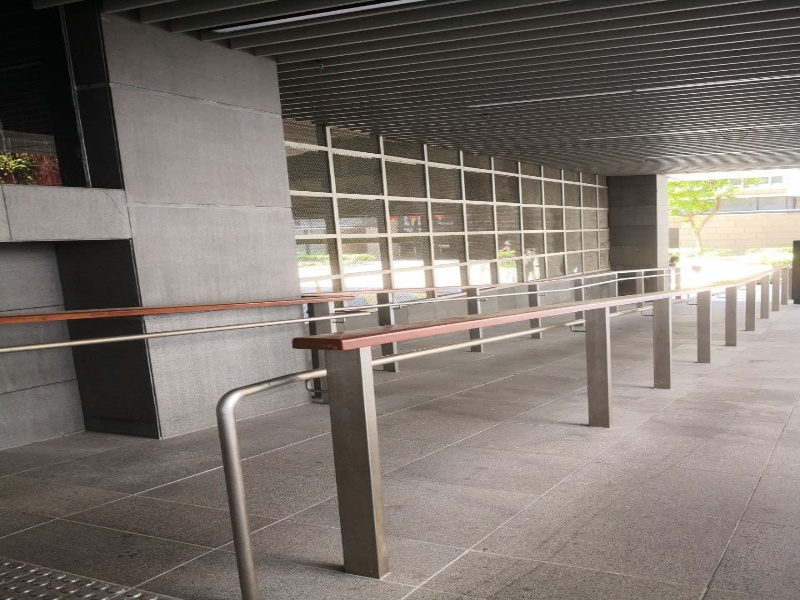slope: (12, 267, 800, 423)
